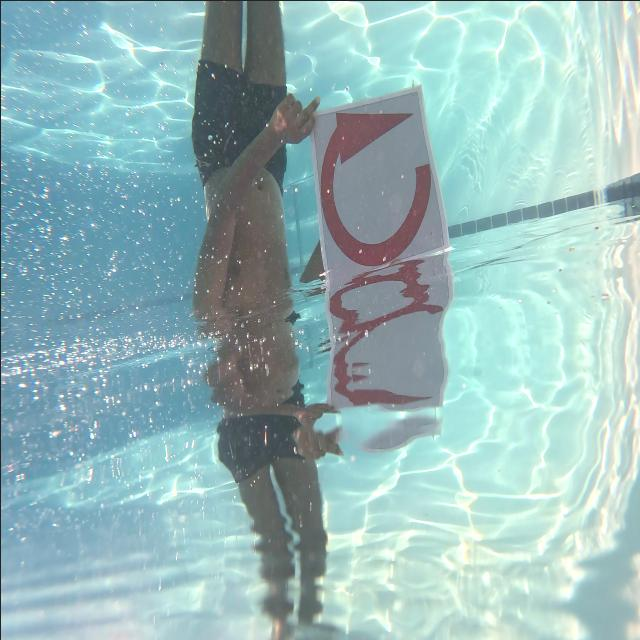red_side: (298, 83, 454, 271)
